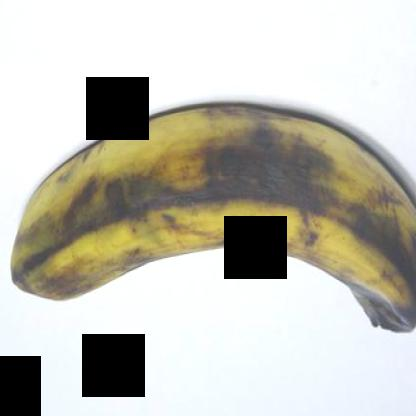overripe: (5, 80, 415, 374)
